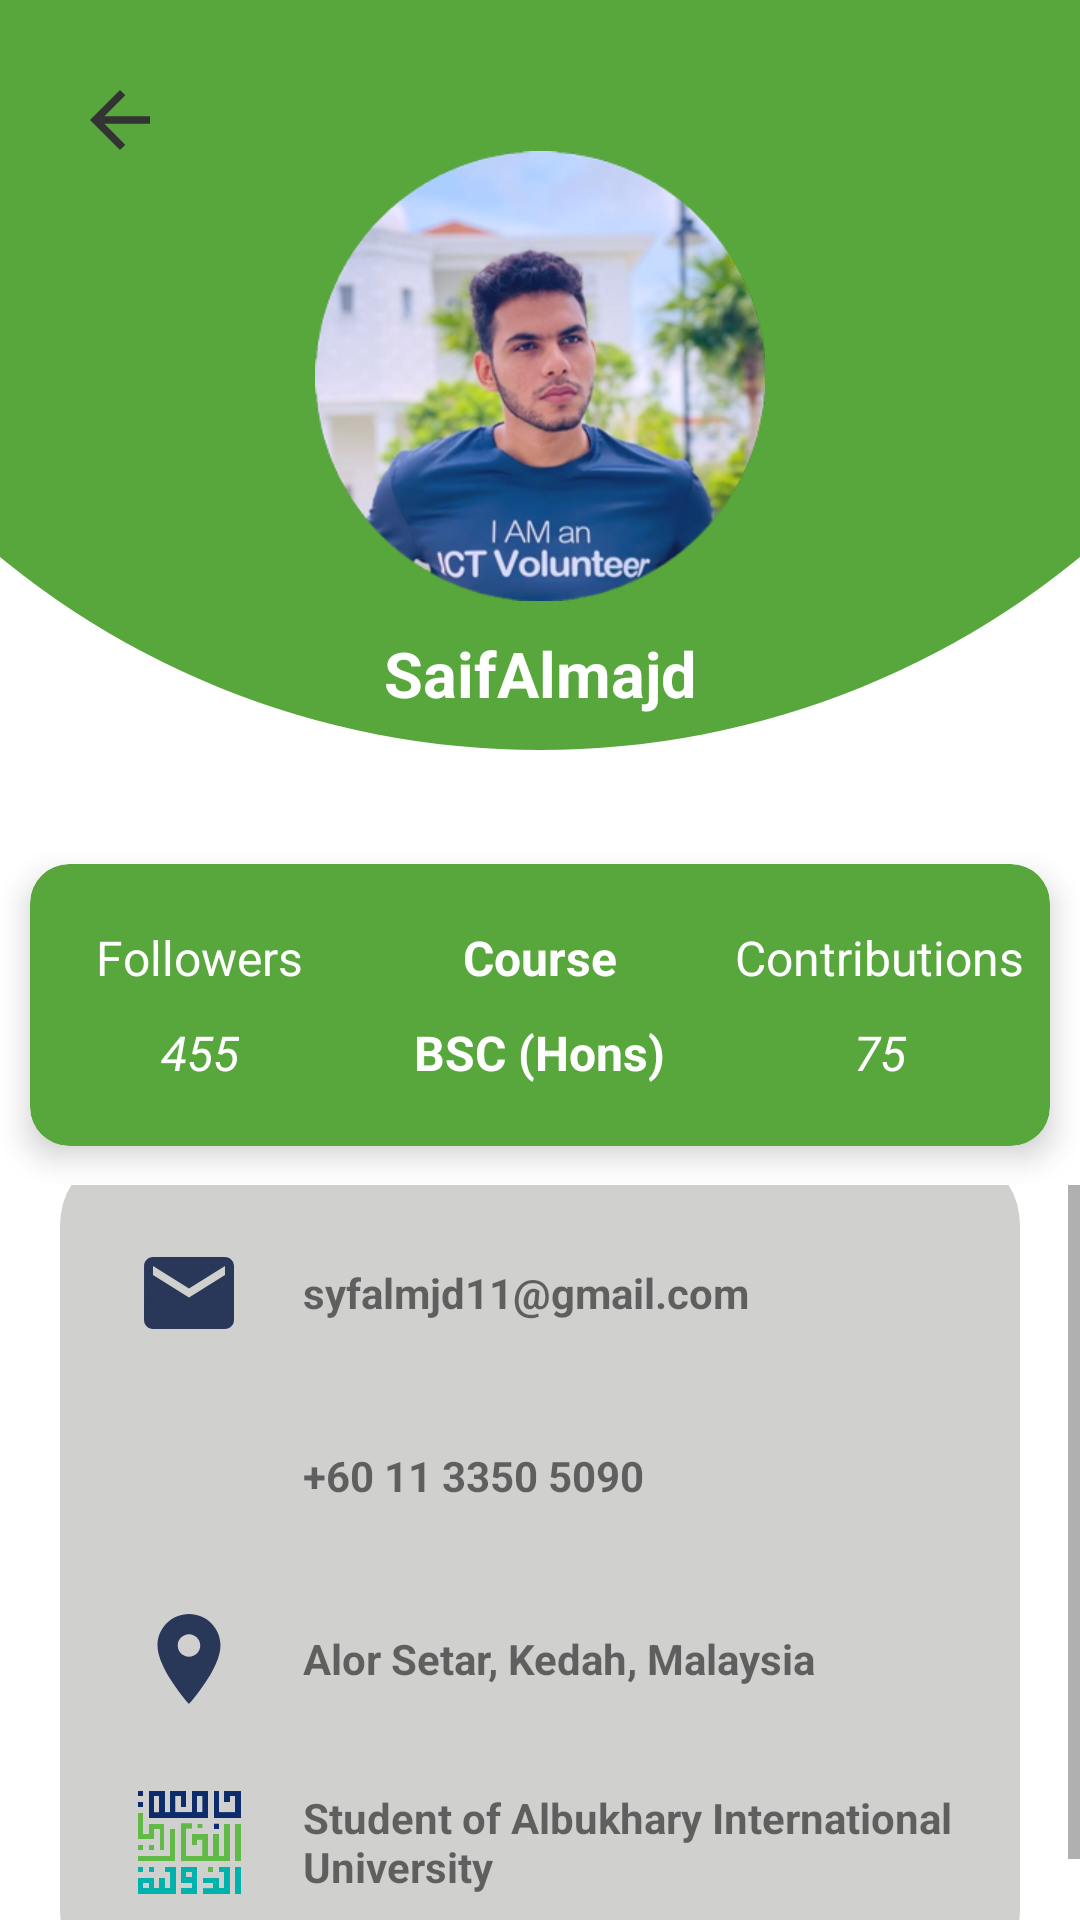

Icons on this 1080×1920 Android screen, each with its box as (x1, y1, x2, y2):
arrow back: (90, 90, 150, 150)
email: (144, 1257, 234, 1329)
location: (157, 1614, 221, 1704)
